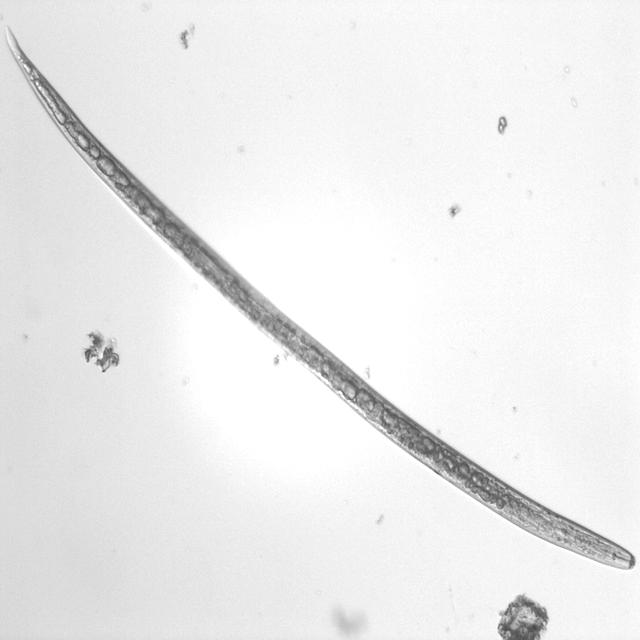Radopholus: (6, 16, 636, 576)
